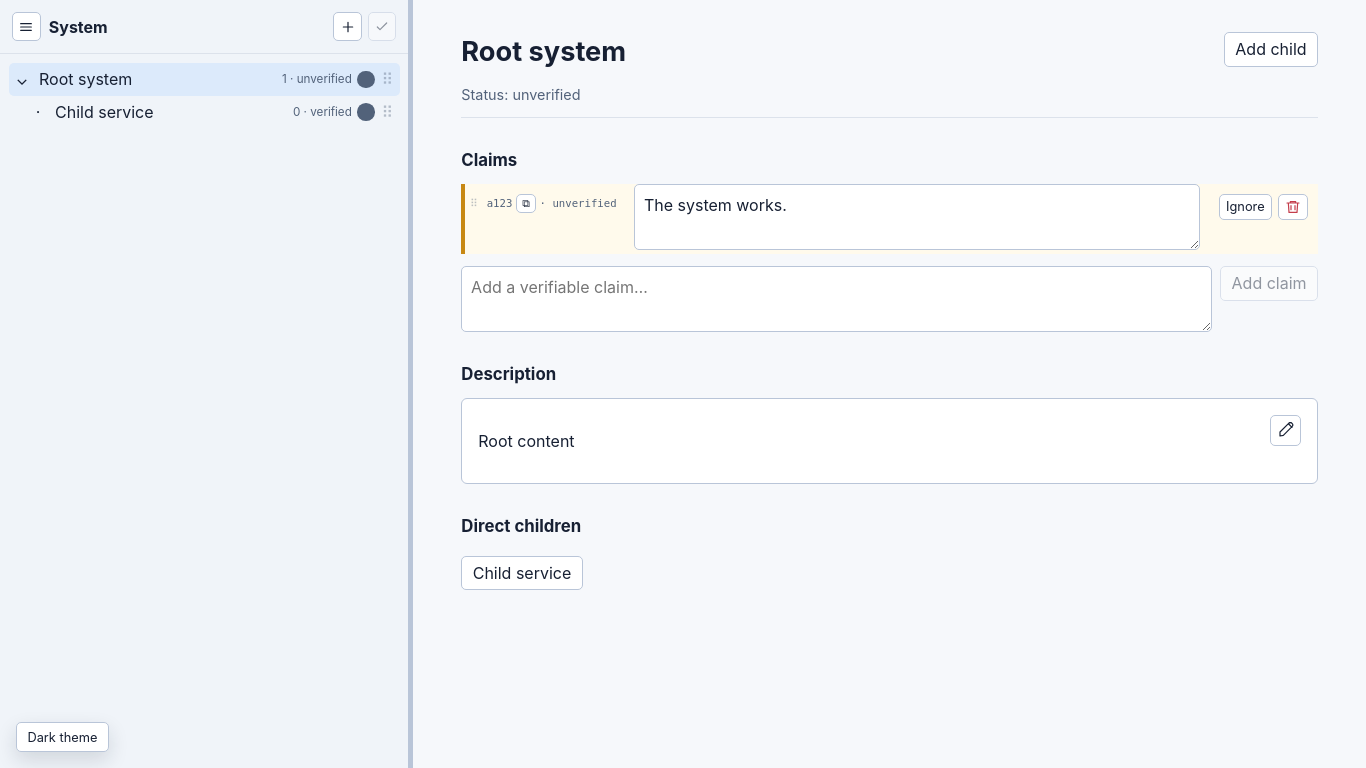
it: workspace interface specification › bb46 changes the detail view when a tree node is selected
The width and height of the screenshot is (1366, 768).
Check: the field showing "Root system" is shown, box [461,32,1208,71]
Click the text with class "tree-name" showing "Child service" at coordinates (104, 112), box [55,102,154,122]
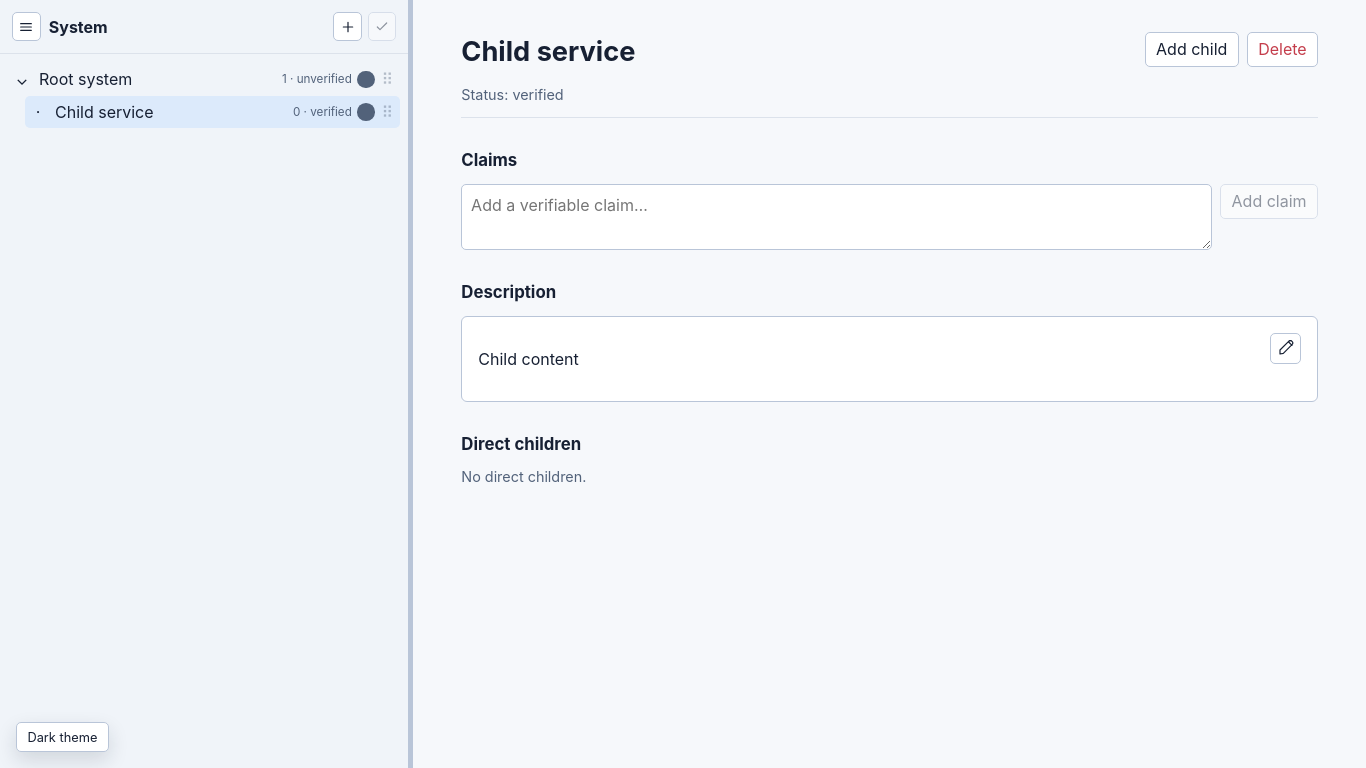
Check: the field showing "Child service" is shown, box [461,32,1129,71]
